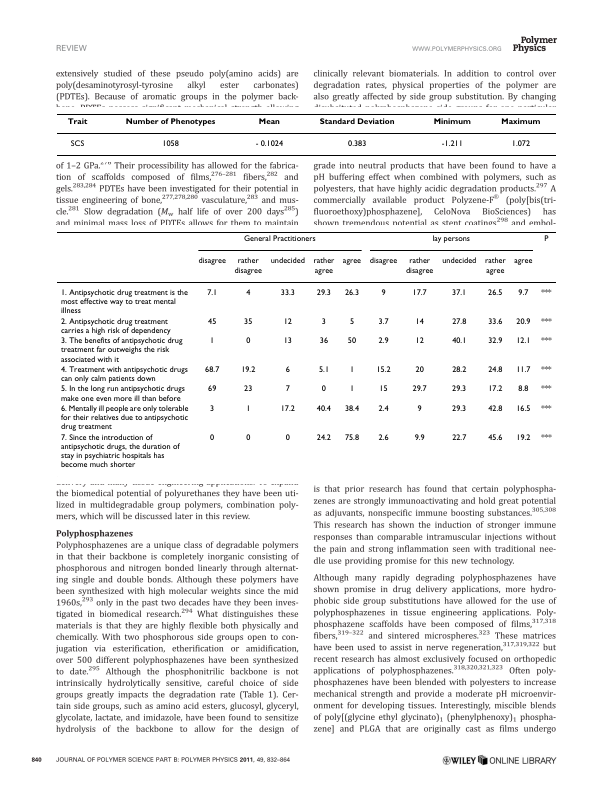borderless: (55, 230, 557, 478), (56, 112, 556, 155)
cell: (59, 433, 180, 470), (59, 404, 189, 432), (59, 288, 188, 316), (59, 336, 183, 365), (59, 384, 185, 404), (59, 365, 188, 384), (59, 317, 171, 336), (124, 117, 216, 126), (242, 234, 316, 244), (318, 117, 395, 126), (404, 257, 434, 276), (233, 257, 262, 276), (312, 257, 335, 276), (483, 257, 506, 276), (431, 234, 470, 244), (500, 117, 541, 126), (432, 117, 471, 126), (269, 257, 305, 266), (441, 257, 477, 266), (368, 257, 398, 266), (197, 257, 226, 266), (254, 139, 284, 147), (257, 117, 280, 126), (66, 117, 88, 126), (341, 257, 362, 266), (440, 139, 463, 147), (513, 257, 533, 266), (343, 404, 360, 414), (343, 433, 360, 443), (510, 139, 531, 147), (347, 139, 367, 147), (279, 288, 295, 298), (315, 288, 331, 298), (343, 288, 359, 298), (411, 288, 427, 298), (451, 288, 467, 298), (487, 288, 503, 298), (451, 317, 467, 327), (487, 317, 503, 327), (515, 317, 531, 327), (451, 336, 467, 346), (487, 336, 503, 346), (515, 336, 531, 346), (204, 365, 220, 375), (240, 365, 256, 375), (375, 365, 391, 375), (451, 365, 467, 375), (487, 365, 503, 375), (515, 365, 531, 375), (411, 384, 427, 394), (451, 384, 467, 394), (487, 384, 503, 394), (279, 404, 295, 414), (315, 404, 331, 414), (451, 404, 467, 414), (487, 404, 503, 414), (515, 404, 531, 414), (315, 433, 331, 443), (451, 433, 467, 443), (487, 433, 503, 443), (515, 433, 531, 443), (161, 139, 179, 147), (69, 139, 85, 147), (206, 288, 218, 298), (517, 288, 529, 298), (540, 288, 552, 298), (377, 317, 389, 327), (540, 317, 552, 327), (377, 336, 389, 346), (540, 336, 552, 346), (317, 365, 329, 375), (540, 365, 552, 375), (517, 384, 529, 394), (540, 384, 552, 394), (377, 404, 389, 414), (540, 404, 552, 414), (377, 433, 389, 443), (413, 433, 425, 443), (540, 433, 552, 443), (318, 336, 329, 346), (346, 336, 357, 346), (207, 317, 217, 327), (243, 317, 253, 327), (282, 317, 292, 327), (414, 317, 424, 327), (282, 336, 292, 346), (414, 336, 424, 346), (414, 365, 424, 375), (207, 384, 217, 394), (243, 384, 253, 394), (378, 384, 388, 394), (348, 317, 355, 327), (348, 365, 355, 375), (348, 384, 355, 394), (543, 234, 549, 244), (245, 288, 251, 298), (380, 288, 386, 298), (320, 317, 326, 327), (209, 336, 215, 346), (245, 336, 251, 346), (284, 365, 290, 375), (284, 384, 290, 394), (320, 384, 326, 394), (209, 404, 215, 414), (245, 404, 251, 414), (416, 404, 422, 414), (209, 433, 215, 443), (245, 433, 251, 443), (284, 433, 290, 443)
